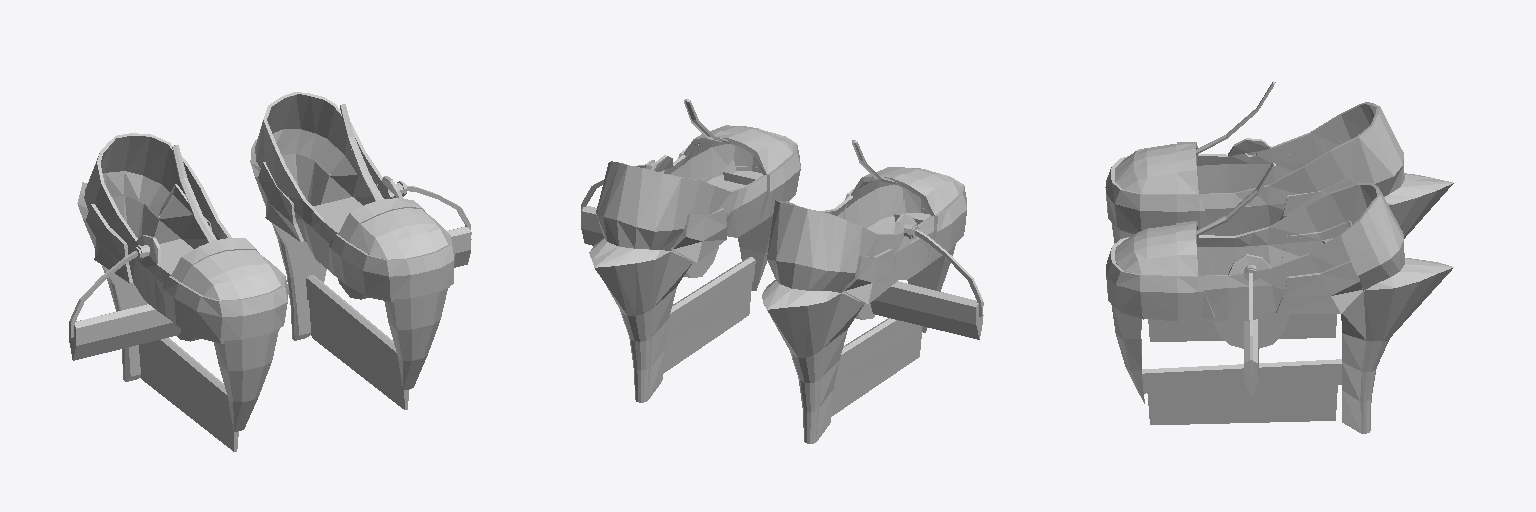
3 views of the same model, side by side, from view 1: azimuth 30°, elevation 25°; view 2: azimuth 150°, elevation 25°; view 3: azimuth 270°, elevation 25° (orthographic).
Visible parts, largest first — view 1: 金属_ぽんぷ長式U-511__Ver.2フル装備.019, 金属＿舵_ぽんぷ長式U-511__Ver.2フル装備.023; view 2: 金属_ぽんぷ長式U-511__Ver.2フル装備.019, 金属＿舵_ぽんぷ長式U-511__Ver.2フル装備.023; view 3: 金属_ぽんぷ長式U-511__Ver.2フル装備.019, 金属＿舵_ぽんぷ長式U-511__Ver.2フル装備.023.
Part boxes in pixels (x1,y1,x2,y2): 金属_ぽんぷ長式U-511__Ver.2フル装備.019: (69,92,471,431); 金属＿舵_ぽんぷ長式U-511__Ver.2フル装備.023: (139,275,409,451); 金属_ぽんぷ長式U-511__Ver.2フル装備.019: (581,99,983,443); 金属＿舵_ぽんぷ長式U-511__Ver.2フル装備.023: (663,257,922,415); 金属_ぽんぷ長式U-511__Ver.2フル装備.019: (1105,81,1453,433); 金属＿舵_ぽんぷ長式U-511__Ver.2フル装備.023: (1142,314,1341,424).
Bounding box in the file's own units: 0.3369 × 0.2154 × 0.2541.